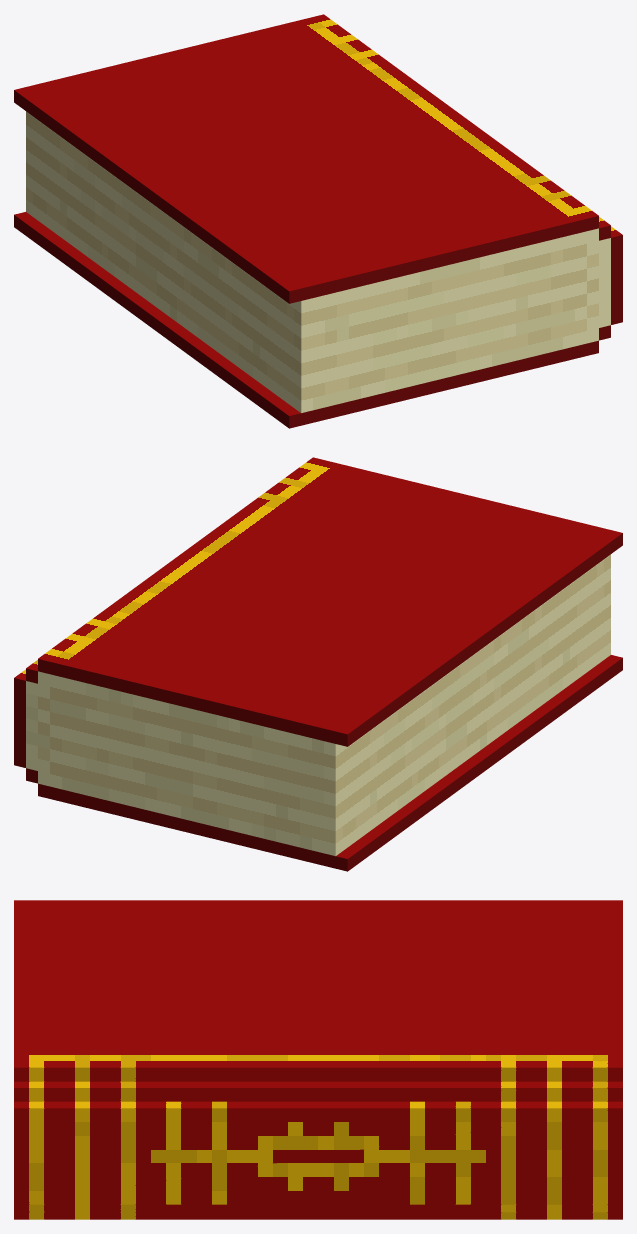
The picture shows the model from 3 angles, top to bottom: view 1: azimuth 30°, elevation 25°; view 2: azimuth 150°, elevation 25°; view 3: azimuth 270°, elevation 25°; orthographic projection. The views are drawn at different scales.
Visible parts, largest first — view 1: cube_1, cube_0, cube_2, cube_5, cube_6; view 2: cube_1, cube_0, cube_2, cube_5, cube_6; view 3: cube_1, cube_5, cube_3, cube_4, cube_2.
Part boxes in pixels (x1=…): cube_1: x1=14, y1=14, x2=598, y2=303; cube_0: x1=26, y1=111, x2=598, y2=413; cube_2: x1=14, y1=212, x2=598, y2=428; cube_5: x1=611, y1=226, x2=622, y2=324; cube_6: x1=599, y1=238, x2=610, y2=327; cube_1: x1=38, y1=457, x2=622, y2=746; cube_0: x1=38, y1=554, x2=610, y2=856; cube_2: x1=38, y1=655, x2=622, y2=871; cube_5: x1=14, y1=669, x2=25, y2=767; cube_6: x1=26, y1=681, x2=37, y2=770; cube_1: x1=14, y1=900, x2=622, y2=1081; cube_5: x1=14, y1=1101, x2=622, y2=1204; cube_3: x1=14, y1=1081, x2=622, y2=1101; cube_4: x1=14, y1=1204, x2=622, y2=1212; cube_2: x1=14, y1=1212, x2=622, y2=1219.
Bounding box in the file's own units: 1.75 × 0.6875 × 2.5.
Materials: 1 (1 with a texture image).
